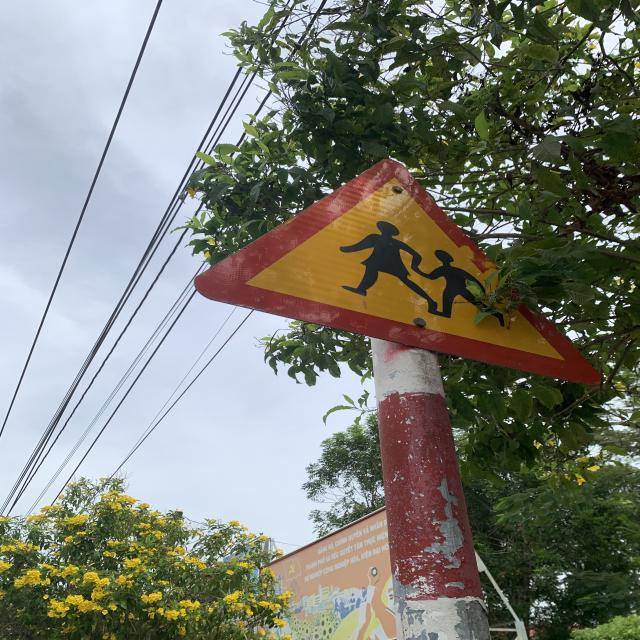Vong_Xuyen: (193, 150, 594, 383)
